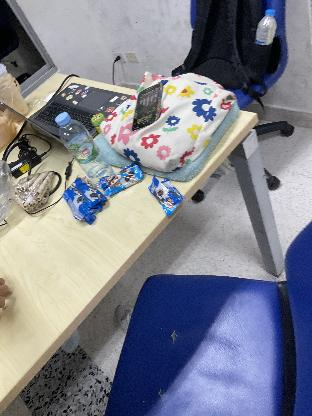Others: (62, 176, 110, 226), (0, 59, 28, 123), (10, 172, 54, 212), (146, 175, 186, 219), (100, 161, 144, 199), (0, 158, 20, 226), (0, 111, 20, 155)
Plastic Bottle: (54, 112, 115, 184)
